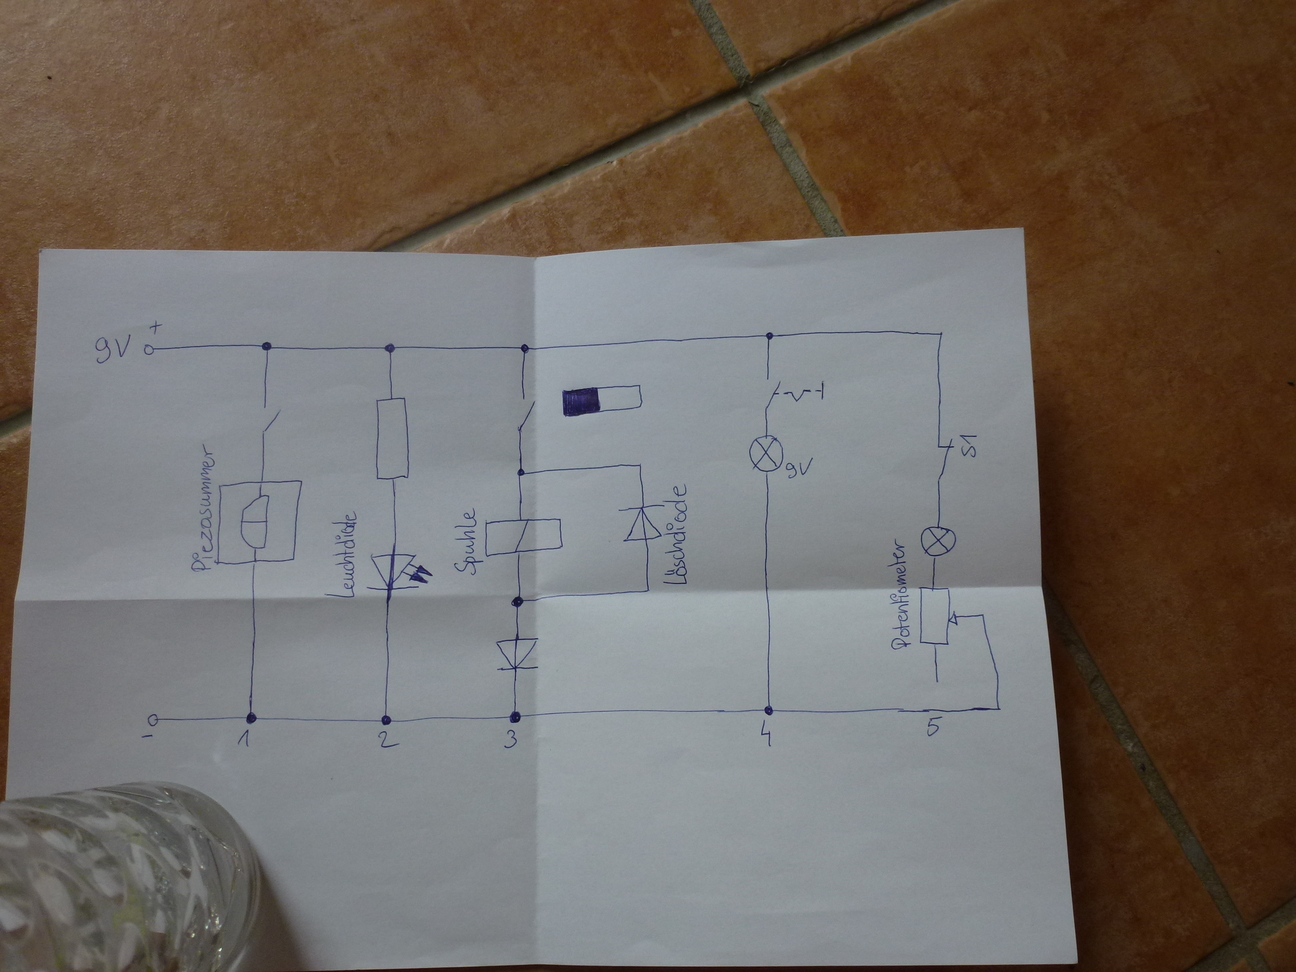diode: (618, 502, 667, 543), (492, 636, 542, 675)
diode.light_emitting: (367, 547, 440, 591)
inductor: (482, 516, 565, 560)
junction: (505, 707, 524, 726), (381, 339, 399, 357), (508, 593, 526, 610), (517, 340, 534, 356), (258, 338, 275, 354), (243, 710, 259, 725), (379, 713, 394, 728), (761, 702, 777, 717), (514, 466, 529, 480), (991, 702, 1005, 716), (763, 329, 777, 342), (977, 610, 989, 621), (935, 328, 947, 339), (634, 460, 646, 471), (641, 585, 652, 595)
lamp: (747, 433, 786, 473), (919, 524, 957, 558)
resistor: (372, 393, 413, 482)
resistor.adjustable: (917, 583, 961, 648)
speaker: (213, 477, 306, 566)
switch: (761, 374, 827, 412), (931, 436, 957, 484), (514, 395, 537, 435), (257, 403, 284, 436)
terminal: (144, 711, 164, 729), (141, 339, 158, 358)
text: (189, 441, 217, 574), (660, 479, 689, 586), (886, 534, 911, 647), (328, 508, 358, 595), (451, 505, 479, 576), (91, 330, 135, 363), (782, 457, 814, 480), (955, 433, 980, 458), (376, 729, 398, 750), (924, 714, 944, 737), (502, 726, 518, 751), (234, 729, 253, 749), (760, 724, 774, 748)
